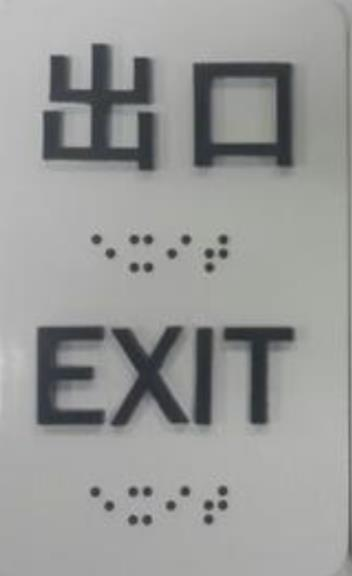Braille: (125, 483, 157, 529), (161, 233, 193, 277), (201, 232, 230, 278), (126, 233, 157, 276), (91, 231, 121, 274), (201, 484, 230, 527), (87, 484, 114, 525), (165, 486, 193, 525)
